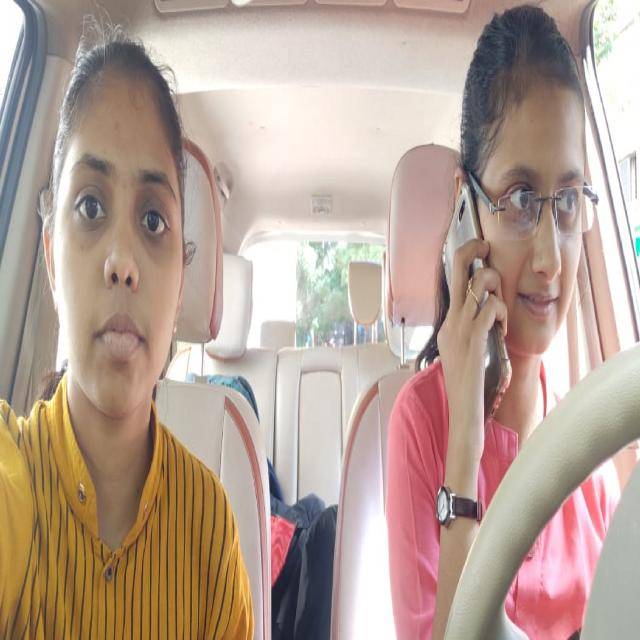mobile: (442, 183, 513, 432)
person: (40, 28, 188, 464), (462, 3, 597, 376)
